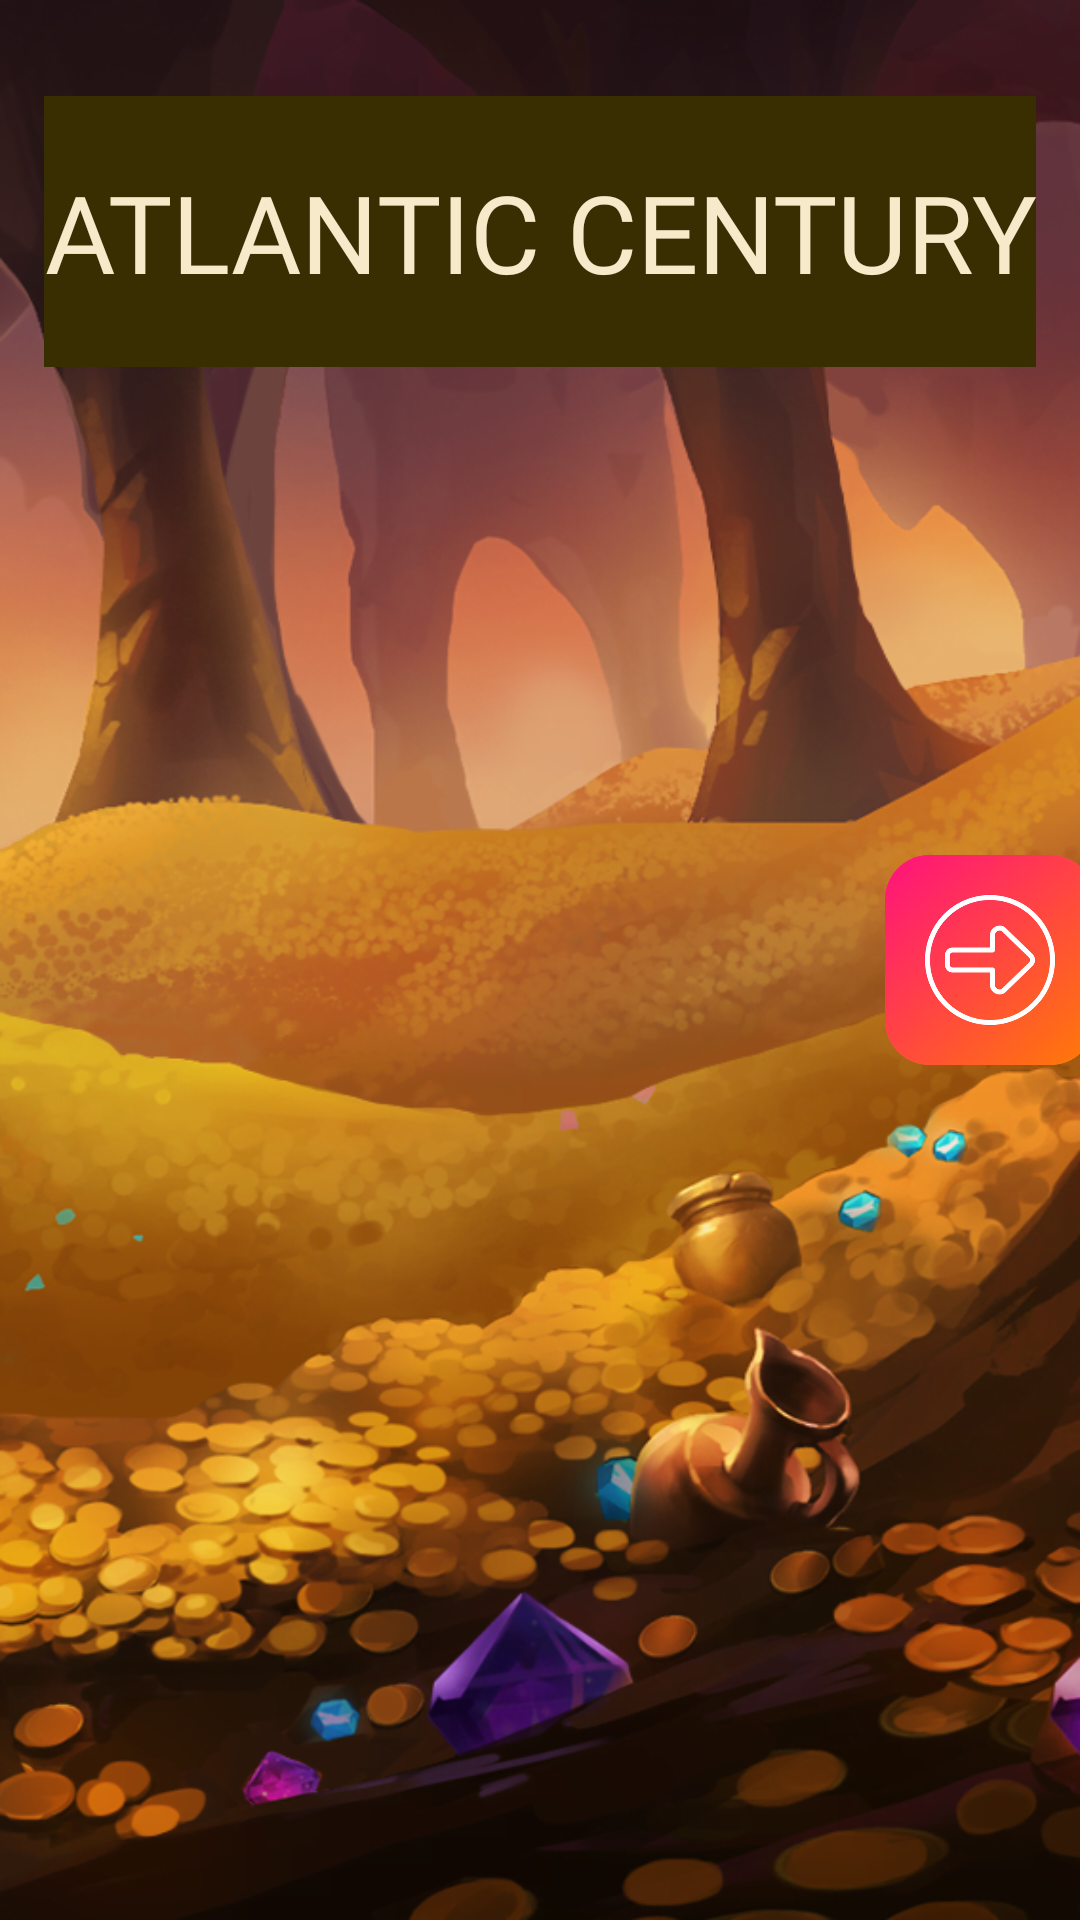

Screen size 1080 x 1920. Icon name, then its center in pixels as (x,y):
right arrow: (982,960)
